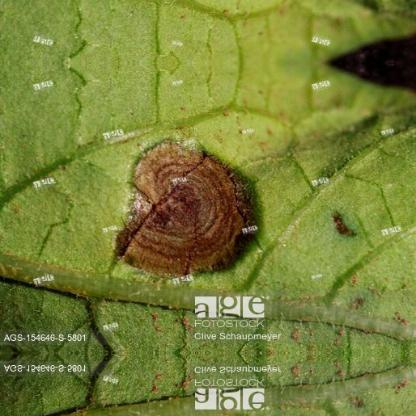Early-Blight: (105, 135, 281, 281)
